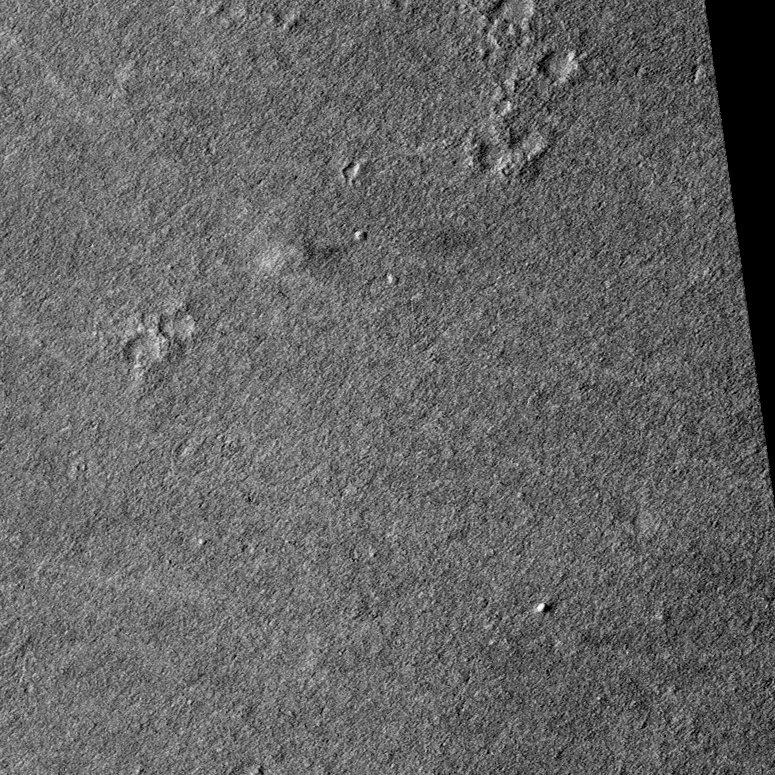dust_devil: (251, 238, 362, 284)
